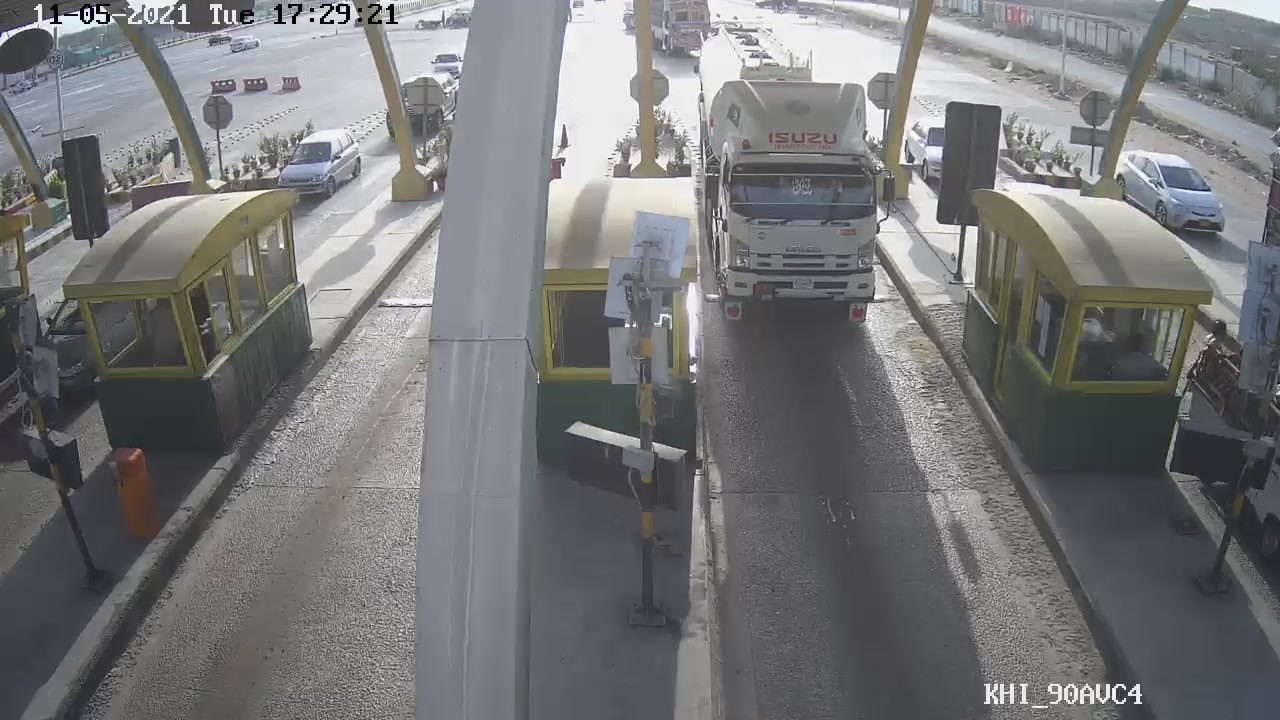F6: (692, 23, 873, 339)
